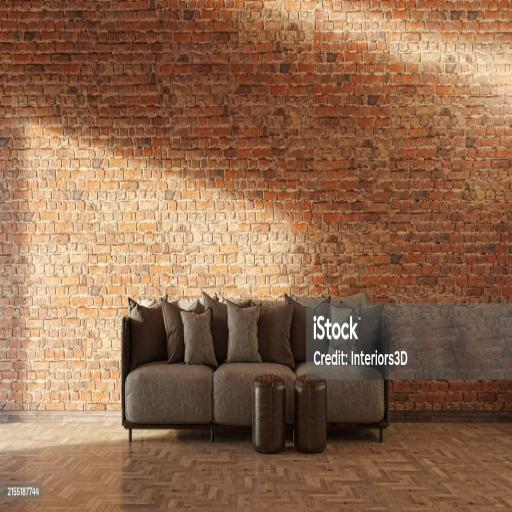back_cushion: (130, 293, 384, 368)
left_arm: (380, 365, 390, 422), (380, 318, 388, 354)
legs: (378, 428, 383, 442), (210, 429, 214, 442), (128, 429, 132, 441)
right_arm: (122, 317, 130, 425)
seat_cushion: (125, 362, 386, 425)
stallion-sofa2: (122, 291, 389, 452)
